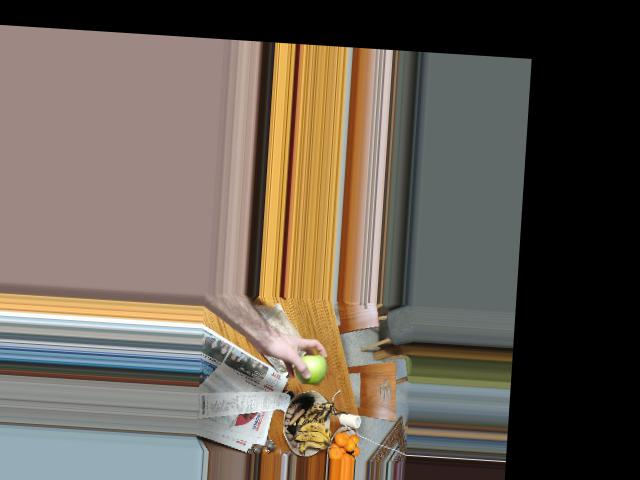apple: (291, 354, 327, 386)
